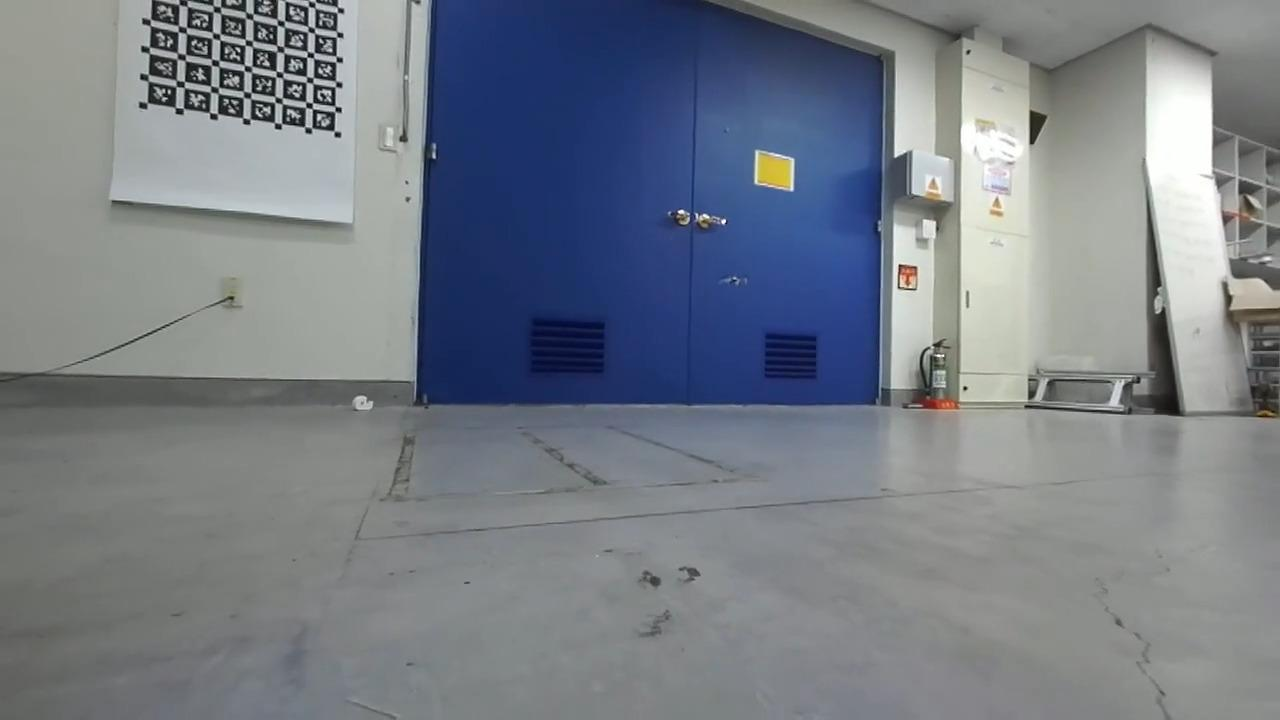crazyflie: (710, 268, 756, 292)
